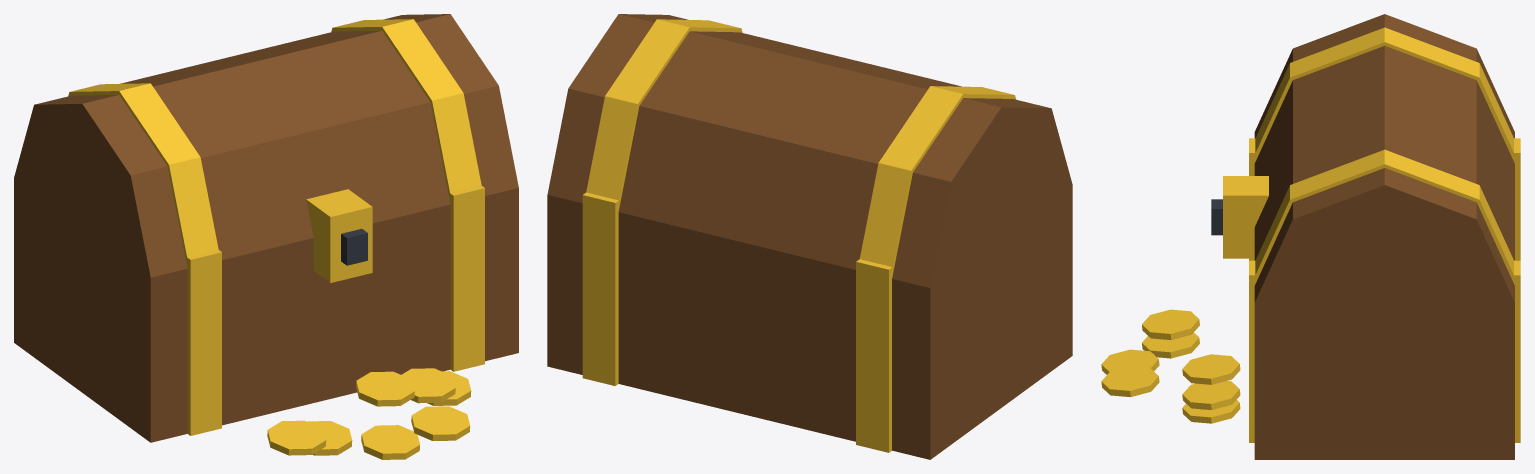
File: treasure_chest.glb
3 renders of one model, left to right at view 1: azimuth 30°, elevation 25°; view 2: azimuth 150°, elevation 25°; view 3: azimuth 270°, elevation 25°, orthographic. The views are drawn at different scales.
Visible parts, largest first — view 1: treasure_chest; view 2: treasure_chest; view 3: treasure_chest.
Part boxes in pixels (<box>): treasure_chest: <box>14,14,518,459</box>; treasure_chest: <box>547,14,1072,459</box>; treasure_chest: <box>1101,14,1520,459</box>.
Size of the model in its own units: 0.7 by 0.533 by 0.7253.
